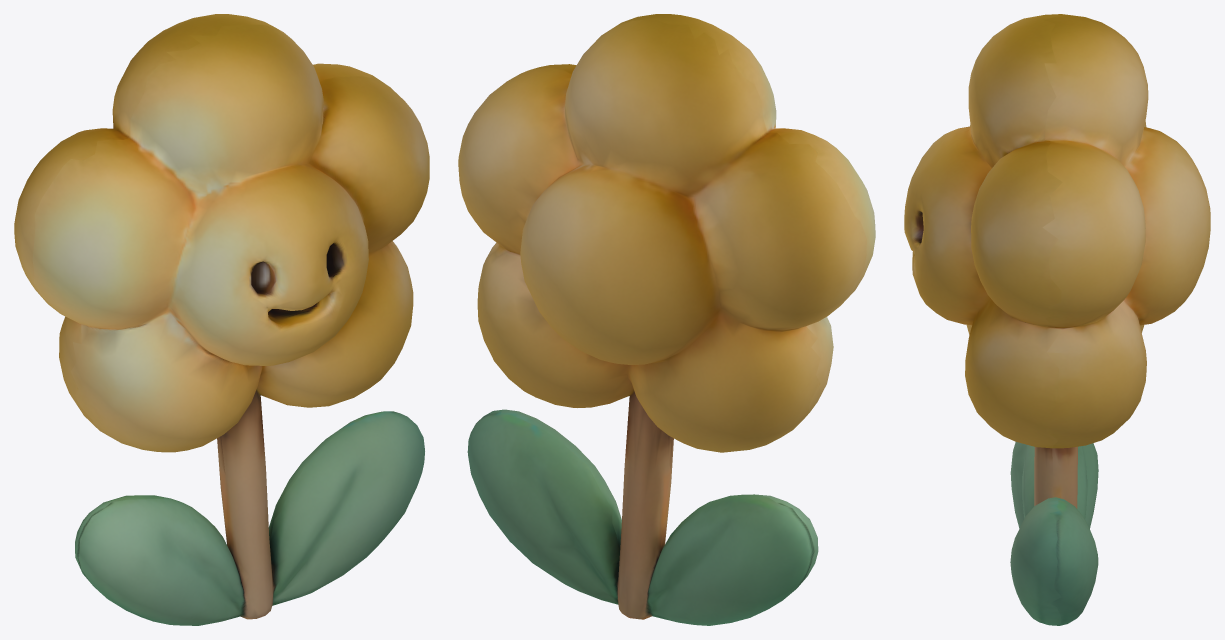
The model's file is fleur.glb.
3 views of the same model, side by side, from view 1: azimuth 30°, elevation 25°; view 2: azimuth 150°, elevation 25°; view 3: azimuth 270°, elevation 25° (orthographic). The views are drawn at different scales.
Visible parts, largest first — view 1: fleur_512_Baked; view 2: fleur_512_Baked; view 3: fleur_512_Baked.
Part boxes in pixels (<box>): fleur_512_Baked: <box>14,14,429,625</box>; fleur_512_Baked: <box>458,14,875,625</box>; fleur_512_Baked: <box>904,14,1210,625</box>.
Bounding box in the file's own units: 0.6893 × 0.9999 × 0.4888.
1 material, 1 textured.
